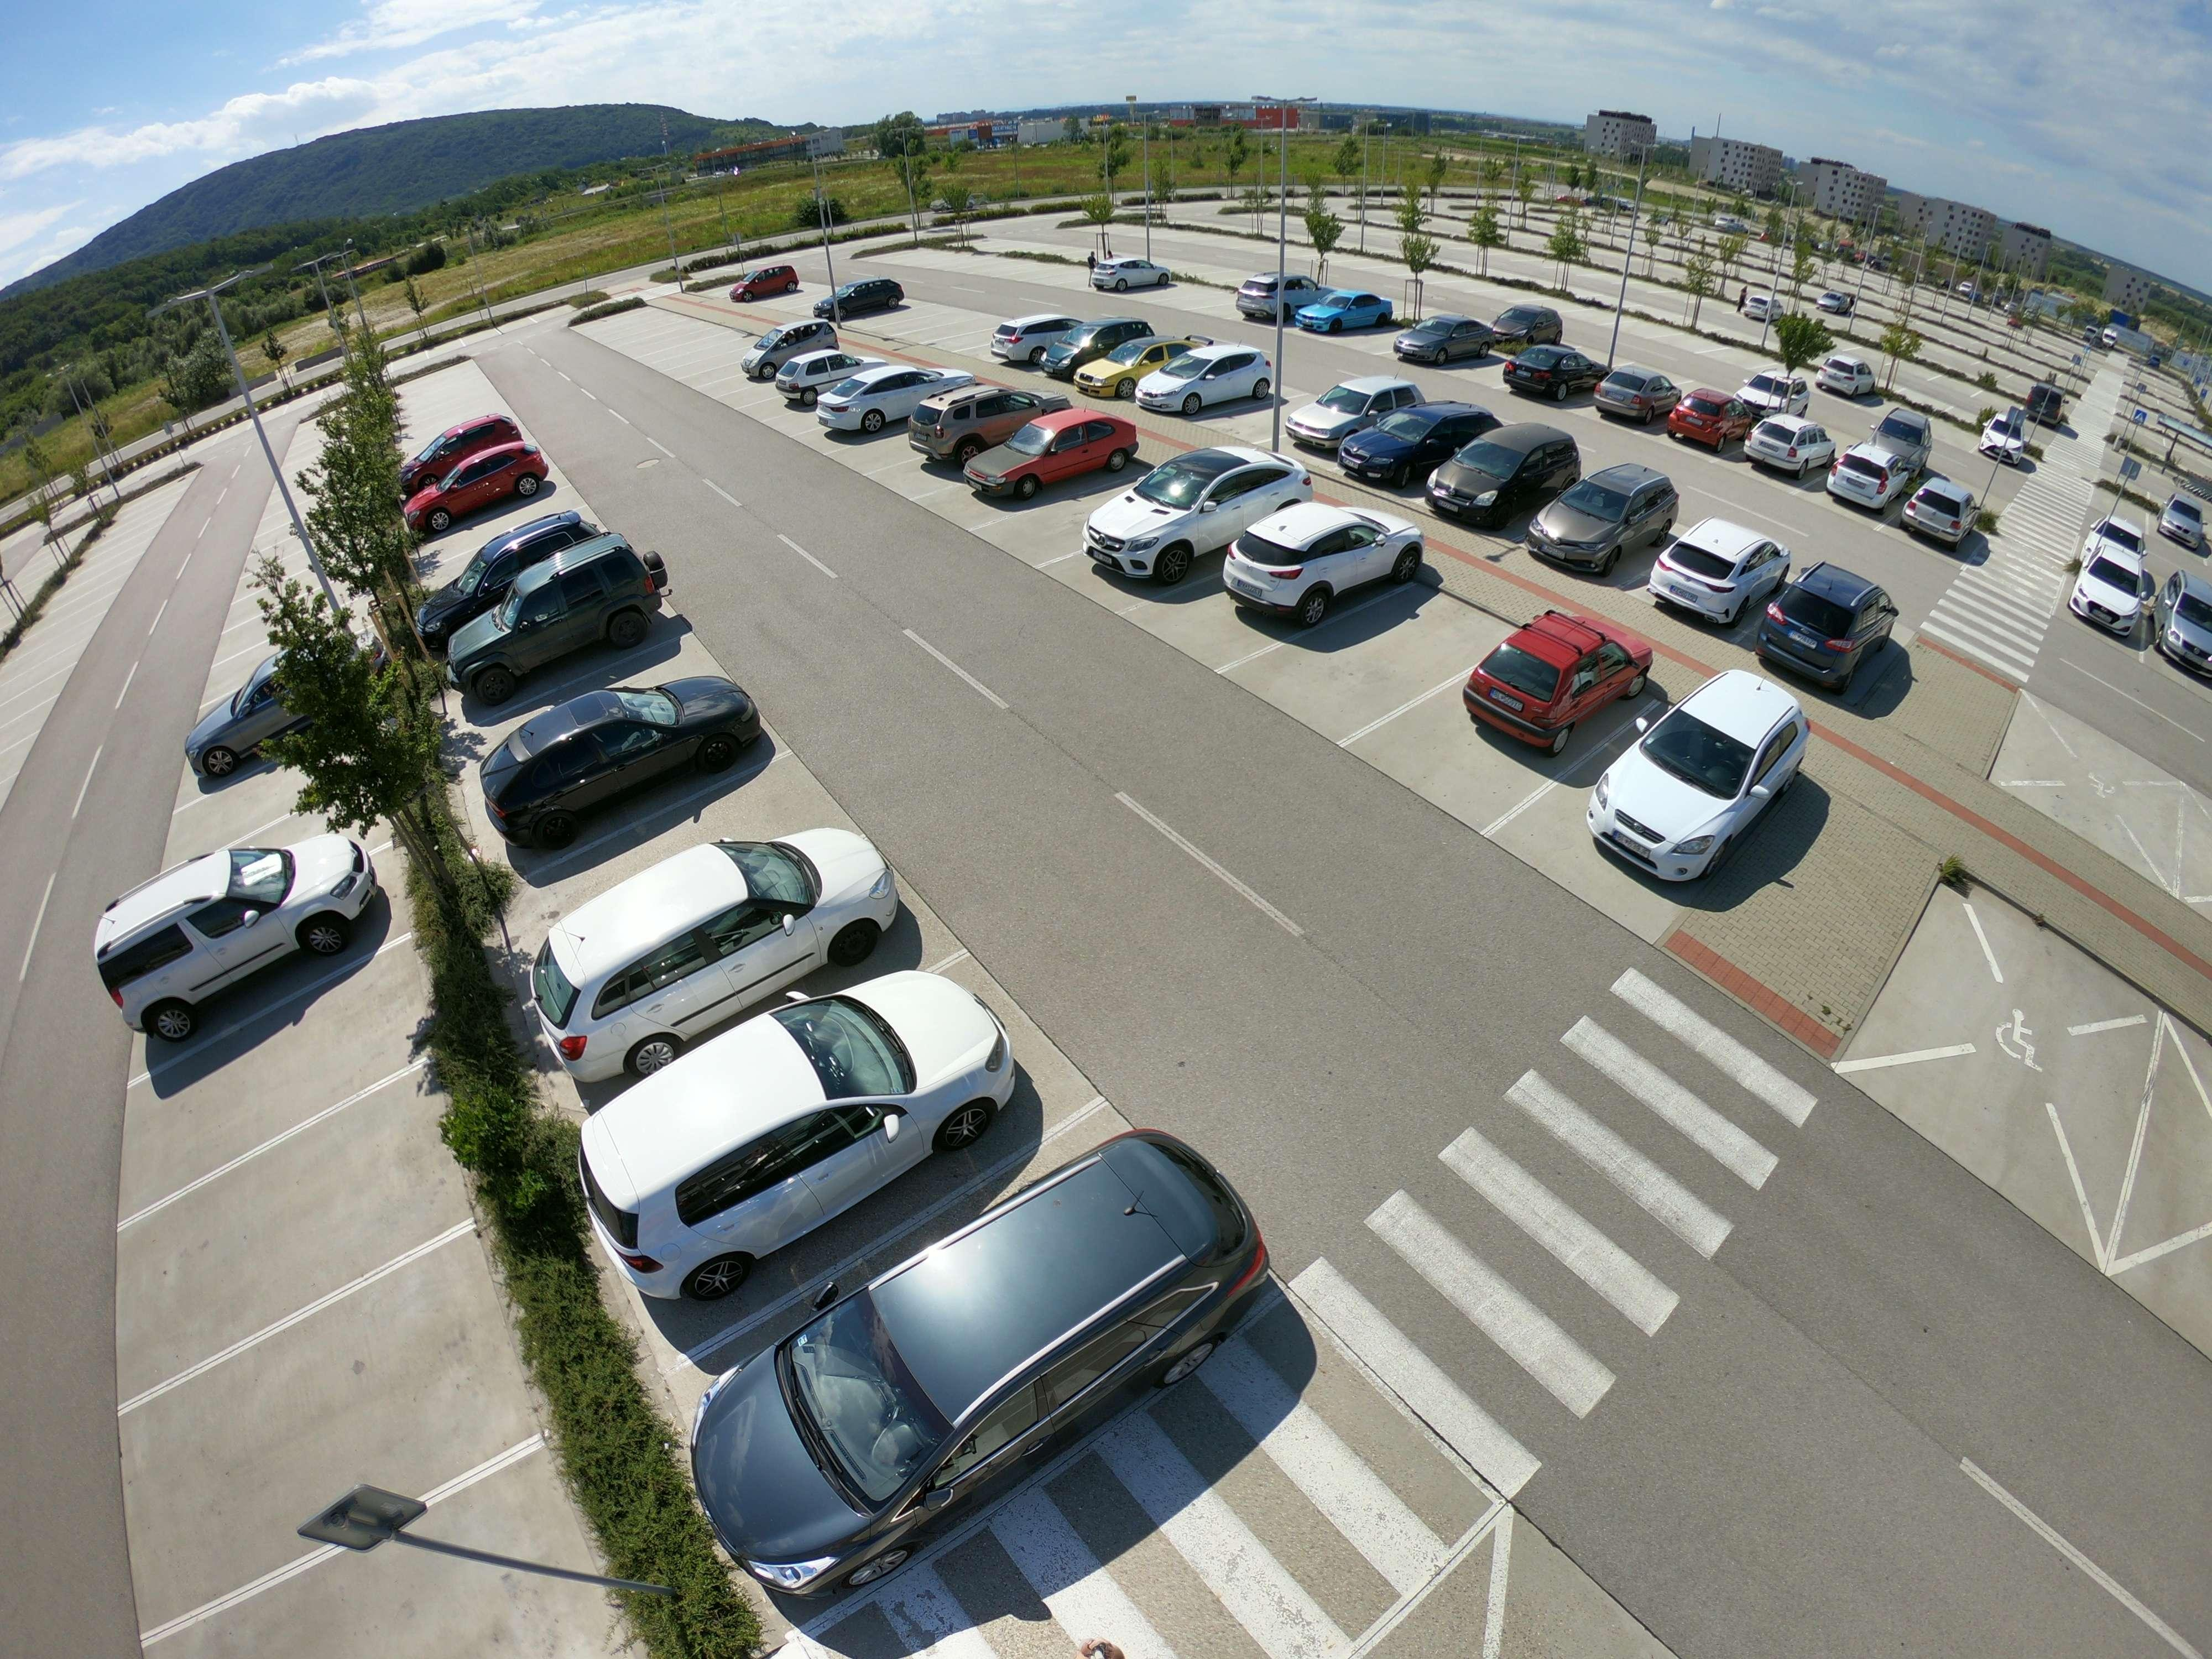empty: (740, 1121, 1301, 1588), (601, 981, 1047, 1276), (552, 830, 921, 1044), (103, 840, 385, 1025), (1576, 667, 1813, 878), (489, 674, 768, 826), (1115, 477, 1390, 612), (434, 544, 674, 688), (1078, 448, 1298, 575), (1454, 619, 1656, 748), (1226, 504, 1428, 627), (1738, 559, 1909, 694), (421, 516, 644, 606), (960, 410, 1148, 502), (1649, 518, 1806, 626), (1423, 423, 1588, 523), (1531, 467, 1679, 573), (1129, 340, 1282, 418), (413, 451, 557, 533), (1348, 401, 1493, 479), (1282, 376, 1423, 457), (822, 362, 970, 436), (906, 385, 1045, 460), (1042, 319, 1172, 383), (740, 324, 862, 390), (2067, 549, 2156, 638), (409, 416, 538, 471), (1825, 444, 1923, 514), (1895, 479, 1984, 552), (1393, 314, 1498, 371), (988, 310, 1092, 368), (1514, 349, 1616, 406), (2151, 591, 2212, 687), (1674, 392, 1766, 455), (1285, 291, 1402, 340), (1597, 369, 1689, 429), (1745, 422, 1839, 479), (820, 279, 913, 324), (1480, 305, 1564, 350), (1097, 253, 1174, 295), (1237, 281, 1306, 324), (1984, 423, 2040, 471)
occupied: (305, 1541, 570, 1659), (260, 1333, 462, 1469), (211, 1166, 397, 1276), (164, 1021, 348, 1127), (644, 769, 834, 847), (559, 631, 735, 708), (178, 774, 293, 852), (1329, 620, 1456, 688), (425, 481, 526, 565), (212, 647, 273, 694)
